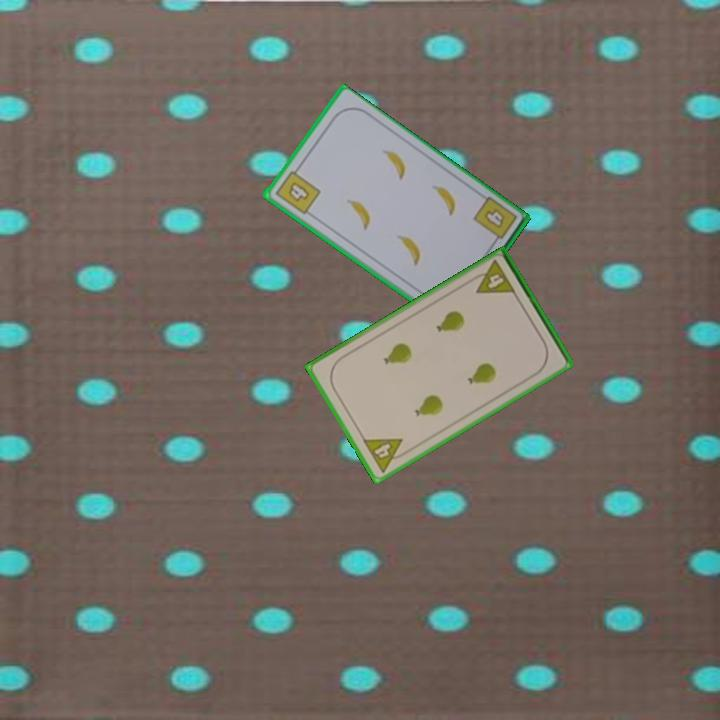4b: (271, 163, 323, 217), (480, 205, 507, 231)
4p: (359, 435, 412, 476), (467, 257, 518, 297)
